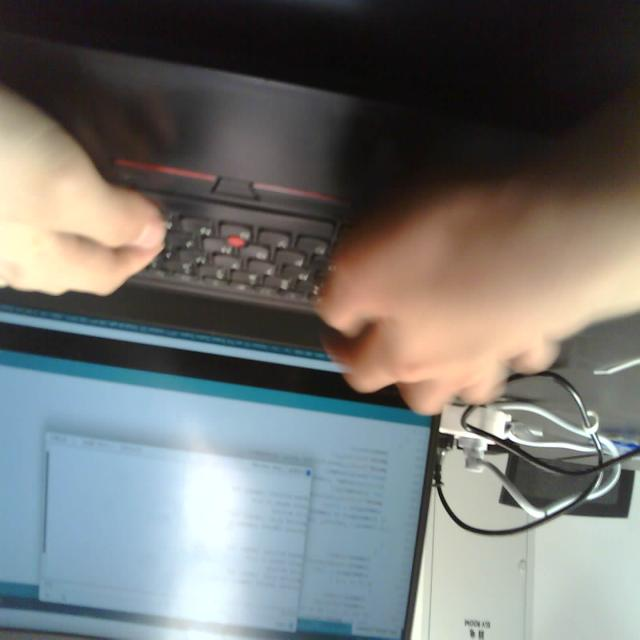keyboard-with-hands: (0, 23, 479, 338)
